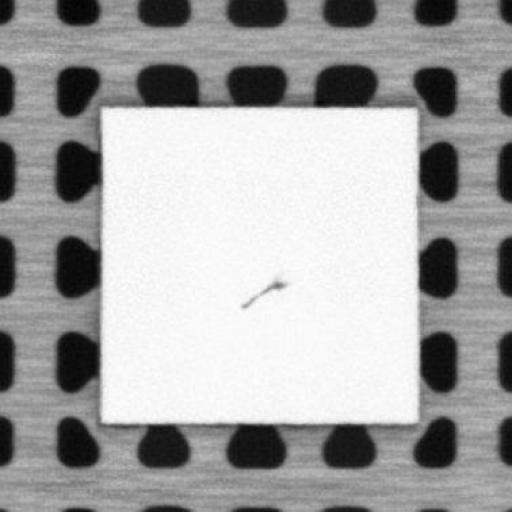DIE_INK: (238, 277, 288, 309)
